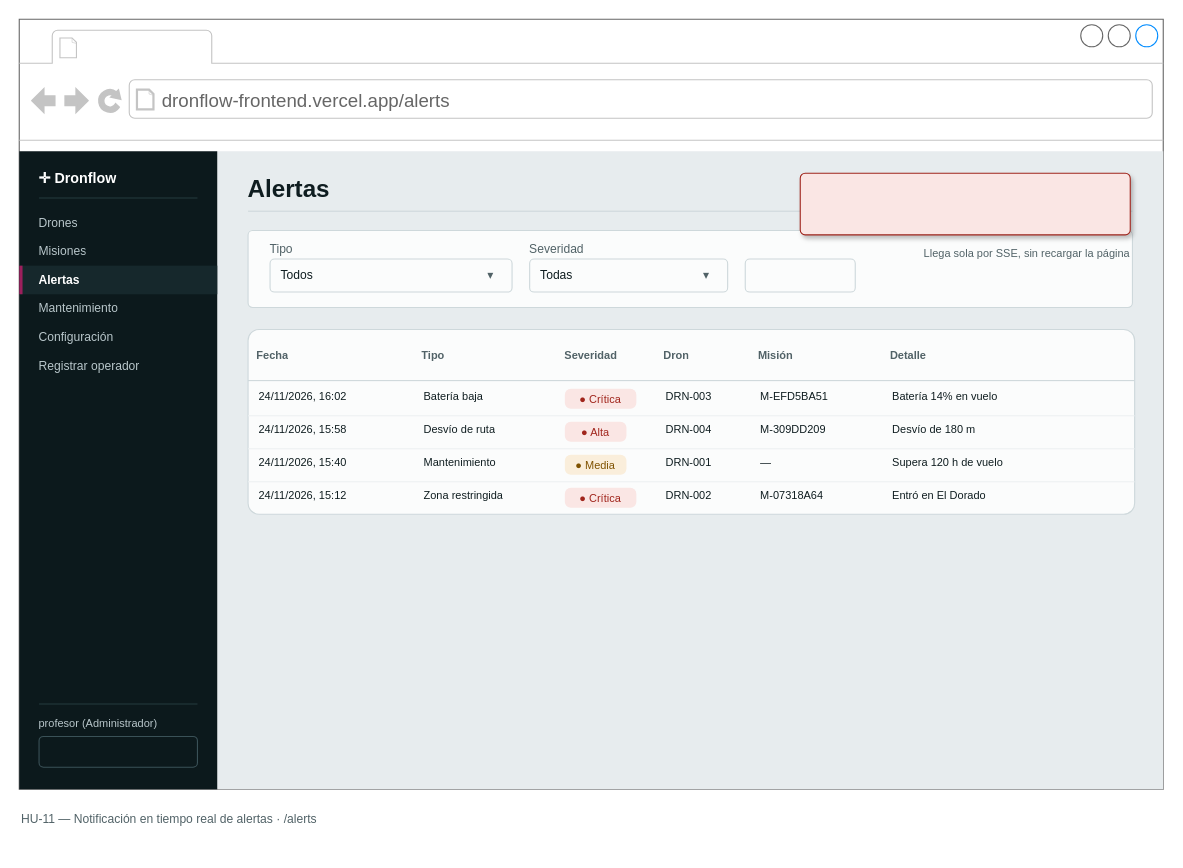
Some shapes in this 1183 by 868 pixel diagram are drawn without their labels. The centre of each missing label's shape, as x and y in pixels:
"Actualizar" belongs at point 799,275.
"Alerta crítica · DRN-003 Batería 14% en vuelo (M-EFD5BA51)" belongs at point 966,205.
"Cerrar sesión" belongs at point 117,751.
